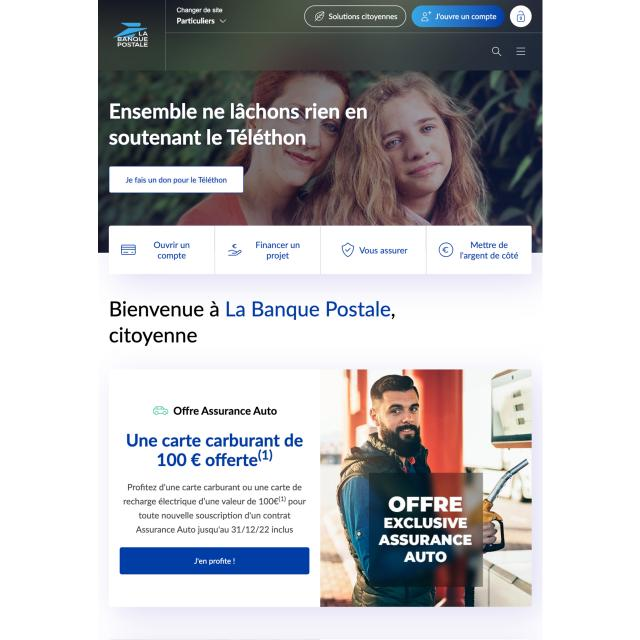logo: (113, 19, 151, 50)
navigation: (108, 224, 532, 275), (514, 43, 528, 59)
